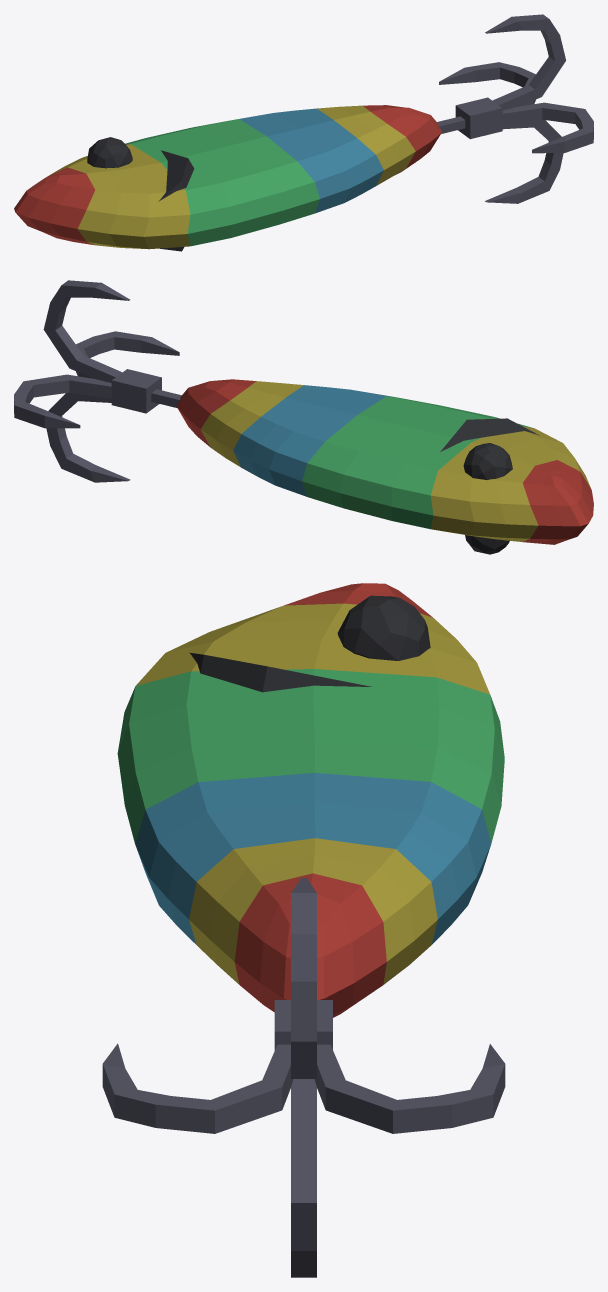
File: quaternius-cute-fish-lure-4.glb
3 views of the same model, one above another, from view 1: azimuth 30°, elevation 25°; view 2: azimuth 150°, elevation 25°; view 3: azimuth 270°, elevation 25° (orthographic). The views are drawn at different scales.
Parts seen in each view (by area): view 1: Lure_4; view 2: Lure_4; view 3: Lure_4.
Boxes of the visible parts, x1,y1,x2,y2 form: Lure_4: (14, 14, 593, 251); Lure_4: (14, 280, 593, 554); Lure_4: (102, 583, 505, 1277).
Bounding box in the file's own units: 1.87 × 0.6167 × 0.6167.
Materials: 1 (1 with a texture image).
